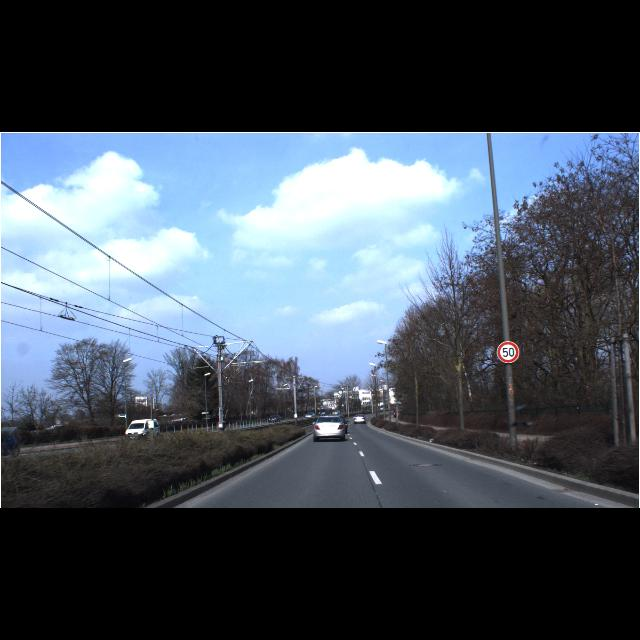prohibitory: (497, 341, 519, 363)
